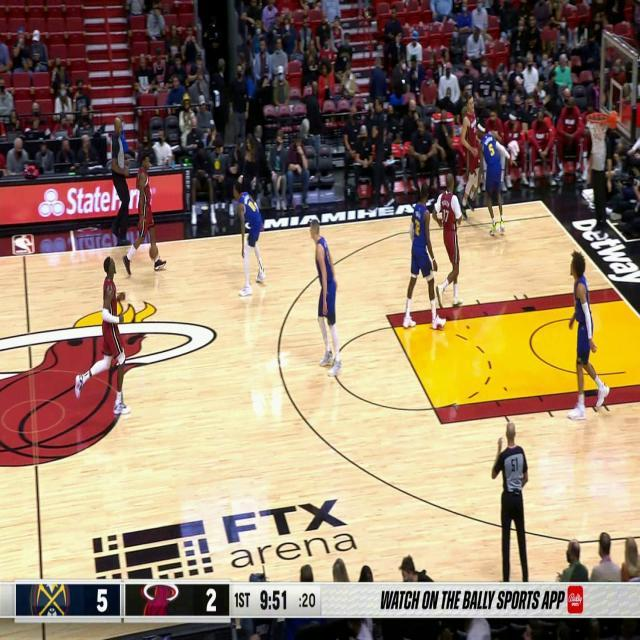rim: (149, 244, 158, 258)
